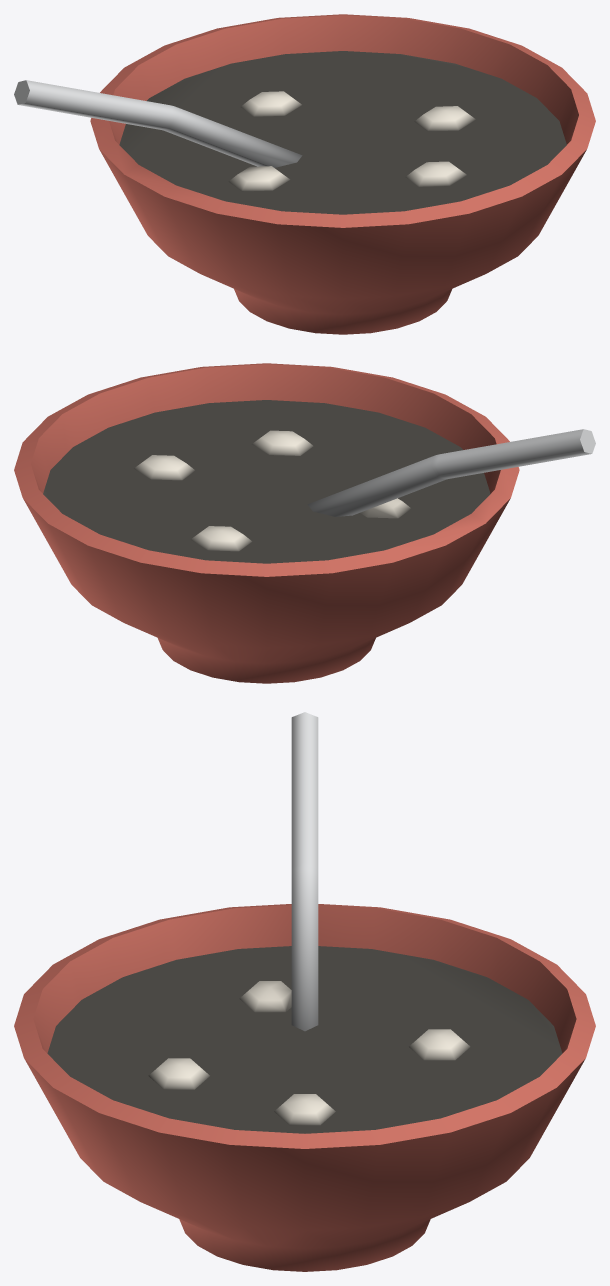
File: dish_soup.glb
The picture shows the model from 3 angles, top to bottom: view 1: azimuth 30°, elevation 25°; view 2: azimuth 150°, elevation 25°; view 3: azimuth 270°, elevation 25°; orthographic projection. The views are drawn at different scales.
Visible parts, largest first — view 1: PART; view 2: PART; view 3: PART.
Part boxes in pixels (x1,y1,x2,y2): PART: (14, 14, 595, 334); PART: (14, 363, 595, 683); PART: (14, 712, 595, 1271).
Bounding box in the file's own units: 0.1865 × 0.0937 × 0.15.
